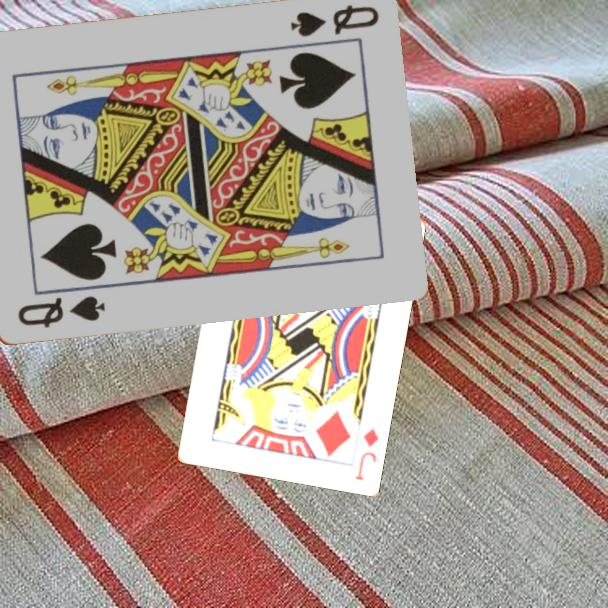d11: (352, 424, 381, 483)
s12: (286, 1, 381, 40), (13, 293, 108, 331)
